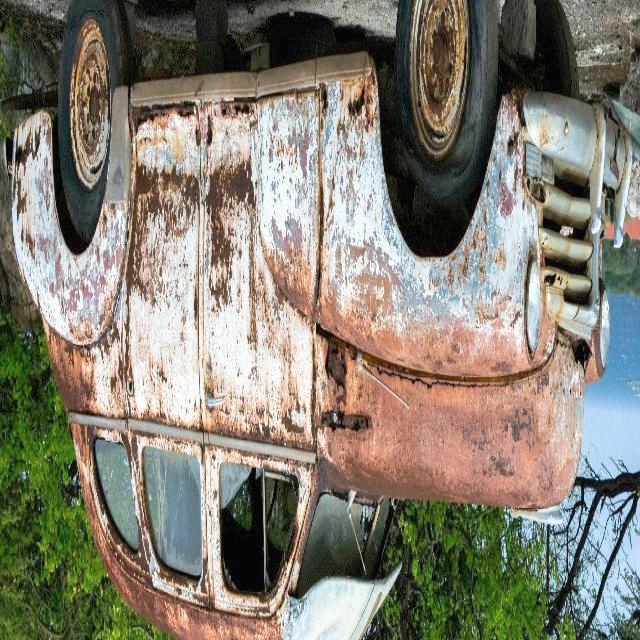Corrosion: (41, 74, 604, 640), (12, 108, 124, 332), (409, 0, 468, 158), (67, 18, 108, 188), (10, 110, 50, 251), (528, 108, 554, 154), (361, 191, 379, 245)
